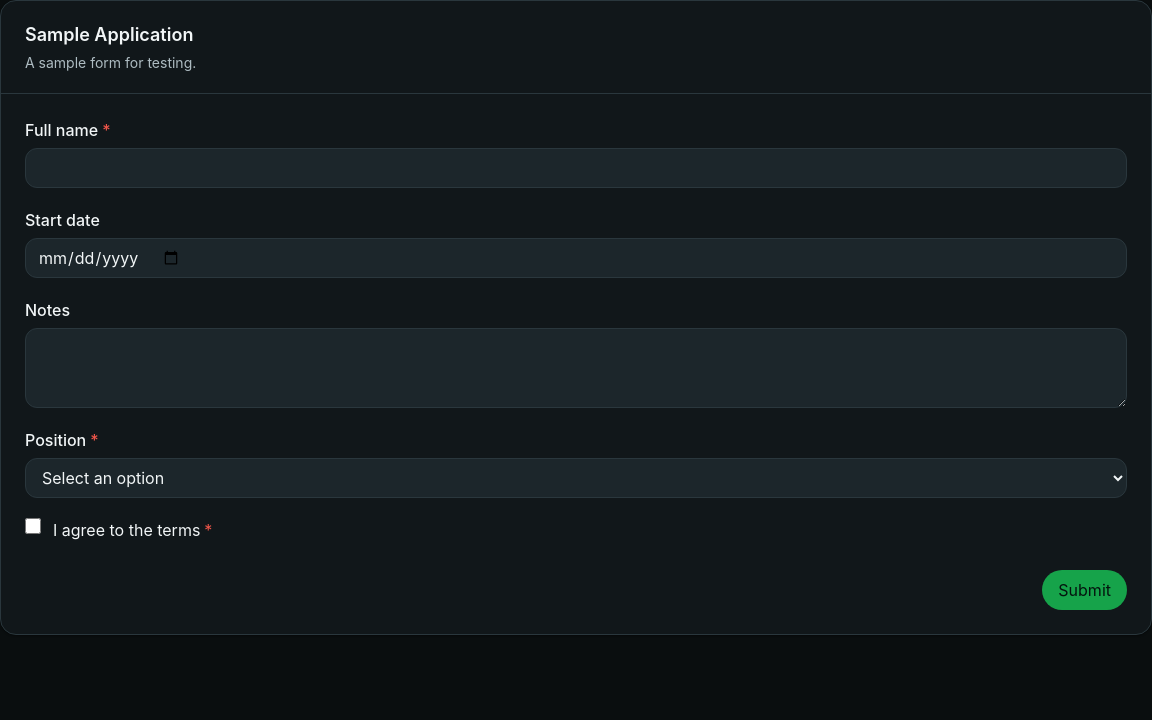
Test: DynamicForm › validates required fields before submit
Click the button "Submit": coordinates (1085, 590) left=1042, top=570, right=1127, bottom=610
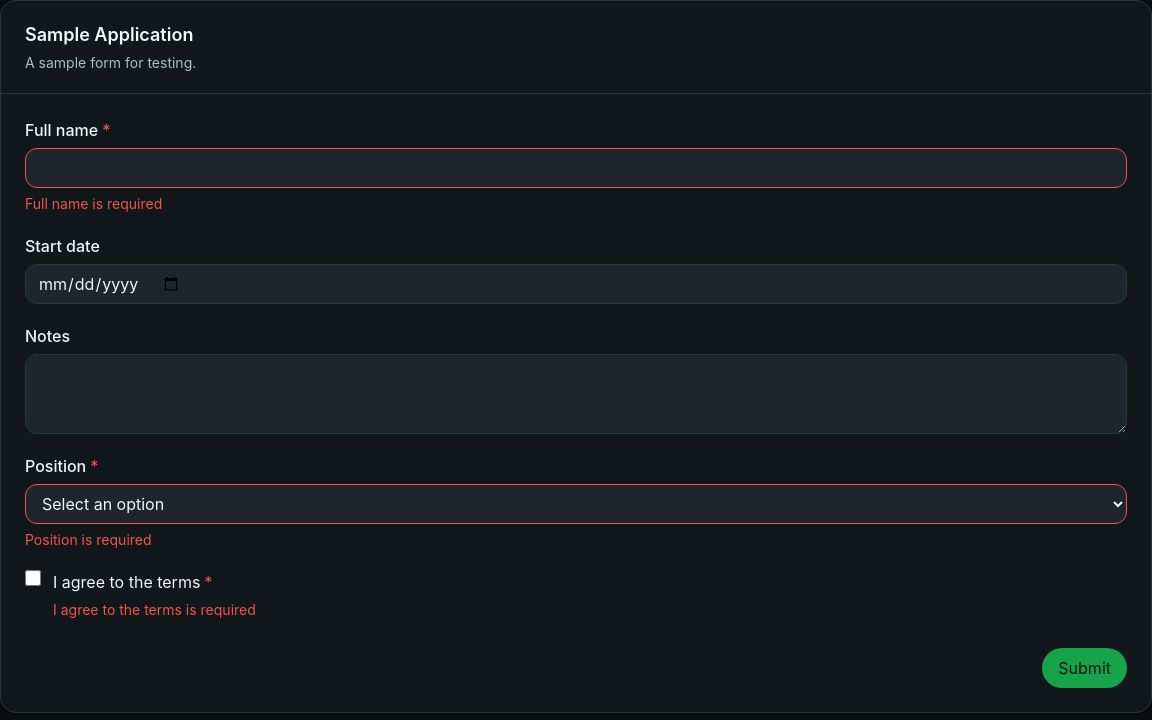
Expected: the text "Full name is required" is shown, left=25, top=195, right=162, bottom=212
Expected: the text "Position is required" is shown, left=25, top=531, right=152, bottom=548
Expected: the text "I agree to the terms is required" is shown, left=53, top=601, right=256, bottom=618
